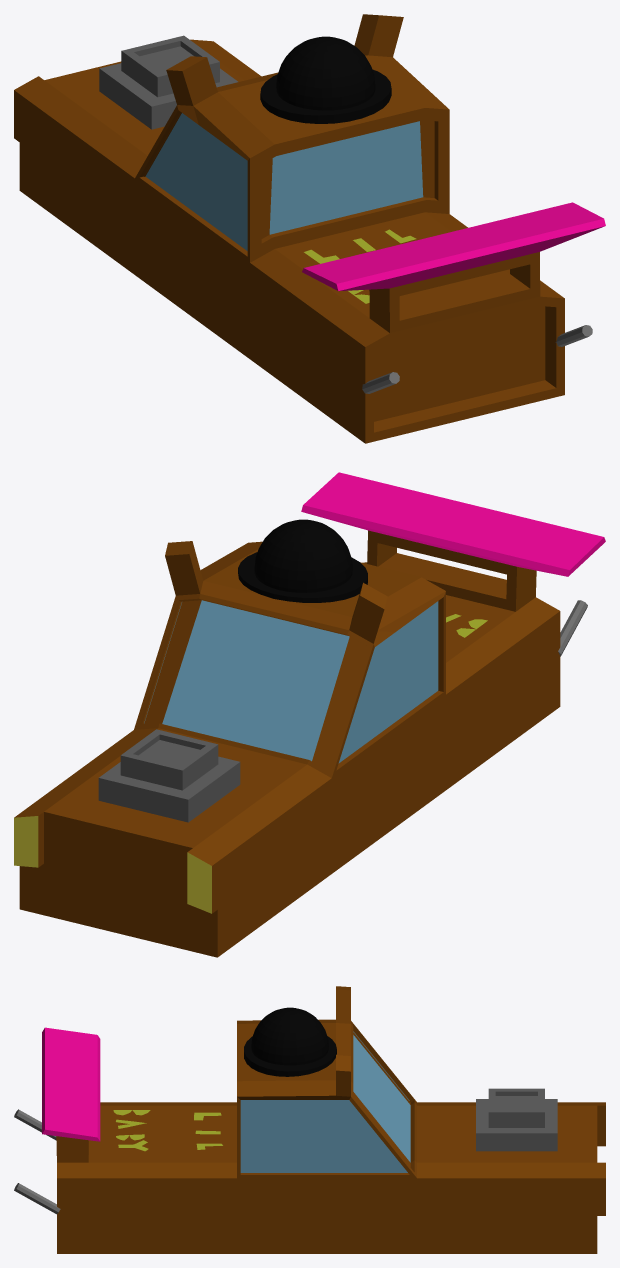
Rendered from bruno_car_mesh.glb.
3 views of the same model, one above another, from view 1: azimuth 30°, elevation 25°; view 2: azimuth 150°, elevation 25°; view 3: azimuth 270°, elevation 25° (orthographic). The views are drawn at different scales.
Parts seen in each view (by area): view 1: car; view 2: car; view 3: car.
Boxes of the visible parts, x1,y1,x2,y2 form: car: [14, 14, 605, 443]; car: [14, 472, 605, 957]; car: [14, 986, 605, 1253].
Bounding box in the file's own units: 2.71 × 2.55 × 6.57.
